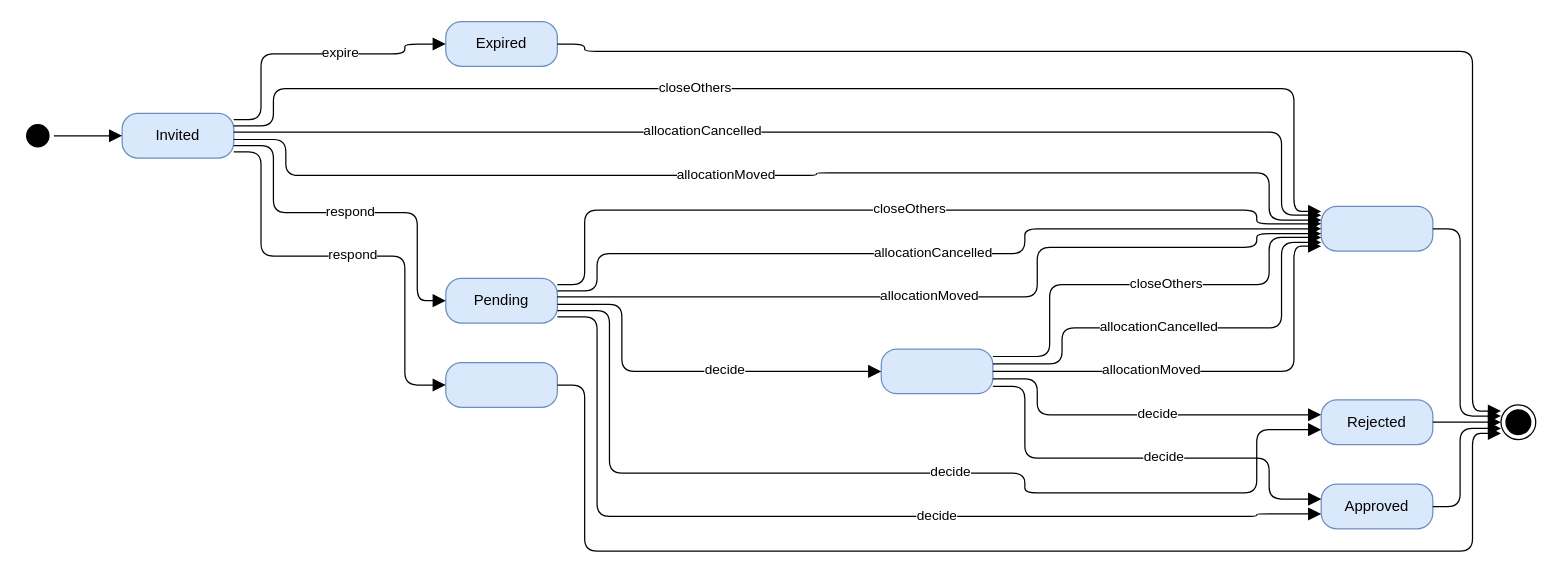
Image size: 1557x585. Some labels were removed from this diagram. The shapes that lost their labels are listed below. From the top down, each one's box as (x1, y1, x2, y2) in pixels, then its label:
(1320, 205, 1433, 251): Cancelled
(445, 361, 557, 407): Declined
(880, 348, 993, 394): To manager
